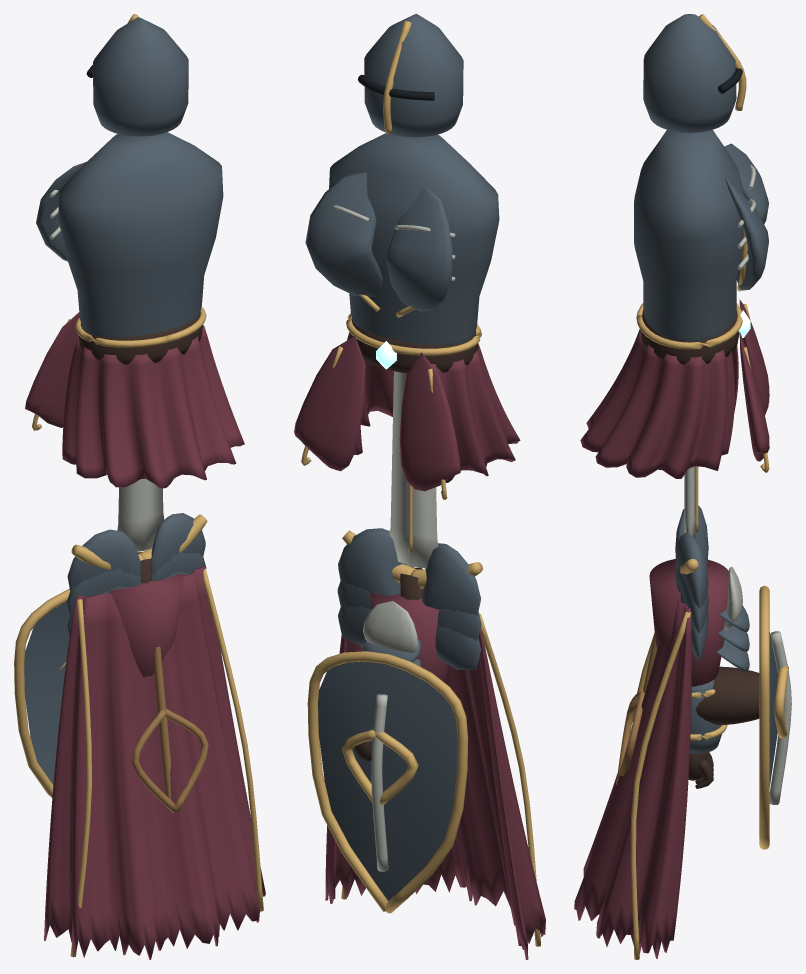
The model's file is vowkeeper.glb.
3 views of the same model, side by side, from view 1: azimuth 30°, elevation 25°; view 2: azimuth 150°, elevation 25°; view 3: azimuth 270°, elevation 25° (orthographic). The views are drawn at different scales.
Visible parts, largest first — view 1: Cape__wine, Body__iron, Body__wine, ArmL__iron, LegL__wine, Cape__gold, Cape__bronze, ArmR__iron, Weapon__silver, ArmL__gold, Body__leather, Body__gold (+1 smaller); view 2: Body__iron, ArmL__iron, Body__wine, Cape__wine, ArmL__gold, ArmR__iron, Weapon__silver, Body__gold, KneeL__silver, LegL__wine, ArmL__silver, Body__leather (+3 smaller); view 3: Body__iron, Cape__wine, Body__wine, LegL__wine, ArmL__gold, KneeL__leather, ArmL__iron, ArmR__iron, Cape__gold, Body__gold, ArmL__silver, Body__leather (+6 smaller).
Boxes of the visible parts, left/top/right/bottom form: Cape__wine: left=44, top=566, right=265, bottom=959; Body__iron: left=36, top=17, right=223, bottom=337; Body__wine: left=25, top=312, right=244, bottom=488; ArmL__iron: left=24, top=529, right=140, bottom=784; LegL__wine: left=108, top=572, right=183, bottom=677; Cape__gold: left=70, top=568, right=263, bottom=957; Cape__bronze: left=132, top=646, right=208, bottom=812; ArmR__iron: left=151, top=513, right=206, bottom=581; Weapon__silver: left=117, top=478, right=164, bottom=551; ArmL__gold: left=14, top=589, right=69, bottom=797; Body__leather: left=78, top=312, right=202, bottom=364; Body__gold: left=32, top=14, right=206, bottom=430; Body__iron: left=305, top=14, right=499, bottom=345; ArmL__iron: left=318, top=543, right=481, bottom=900; Body__wine: left=294, top=332, right=520, bottom=491; Cape__wine: left=325, top=628, right=545, bottom=959; ArmL__gold: left=307, top=651, right=468, bottom=913; ArmR__iron: left=337, top=528, right=413, bottom=646; Weapon__silver: left=389, top=371, right=438, bottom=568; Body__gold: left=301, top=21, right=481, bottom=499; KneeL__silver: left=363, top=601, right=418, bottom=652; LegL__wine: left=370, top=593, right=448, bottom=683; ArmL__silver: left=371, top=693, right=388, bottom=871; Body__leather: left=349, top=318, right=478, bottom=373; Body__iron: left=634, top=14, right=768, bottom=341; Cape__wine: left=574, top=596, right=691, bottom=959; Body__wine: left=580, top=299, right=769, bottom=478; LegL__wine: left=649, top=559, right=728, bottom=686; ArmL__gold: left=690, top=585, right=788, bottom=849; KneeL__leather: left=695, top=666, right=759, bottom=724; ArmL__iron: left=675, top=505, right=777, bottom=786; ArmR__iron: left=675, top=532, right=708, bottom=660; Cape__gold: left=630, top=611, right=691, bottom=959; Body__gold: left=636, top=14, right=769, bottom=472; ArmL__silver: left=769, top=631, right=791, bottom=804; Body__leather: left=640, top=310, right=739, bottom=364.
Bounding box in the file's own units: 0.7746 × 3.19 × 0.7002.
